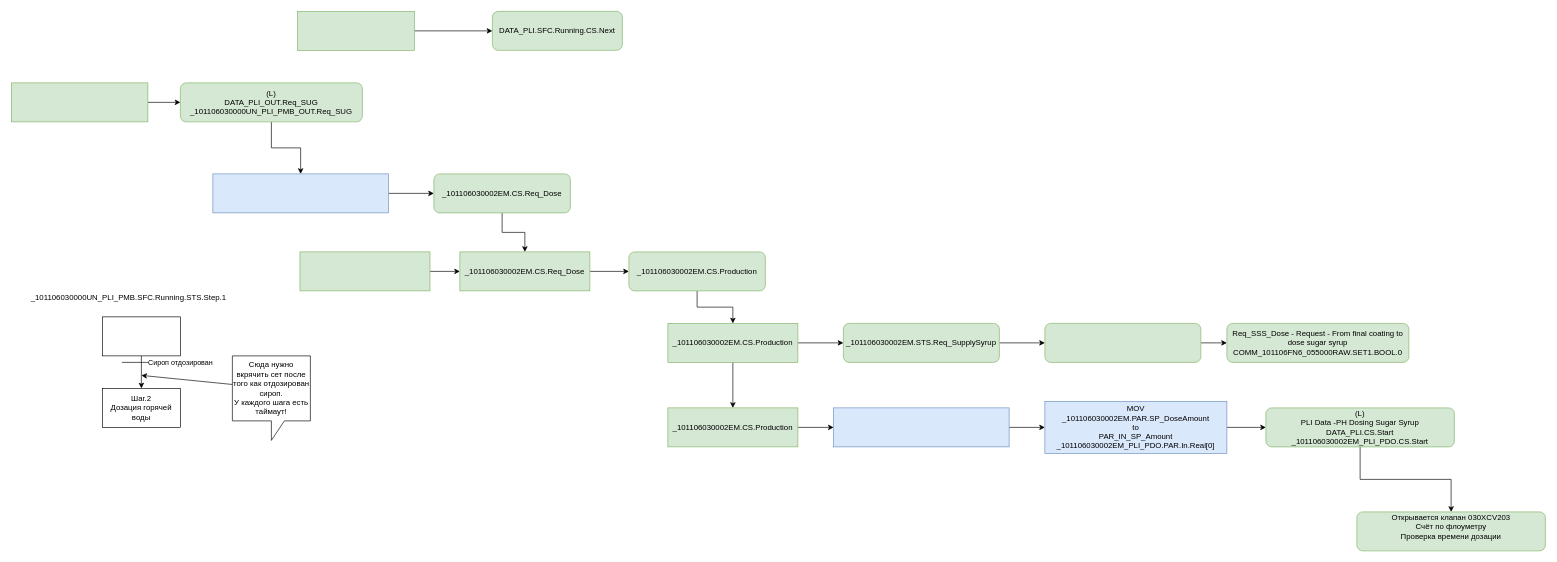
This 1557x562 diagram has some shape labels left out. The box of each missing label's shape, as (x1, y1, x2, y2) in pixels:
_101106030000UN.STS.Req_SupplySyrup: (1044, 323, 1201, 362)
_101106030002EM.CC.Done: (297, 11, 414, 50)
_101106030002EM.CC.Standby: (299, 251, 430, 291)
DATA_PLI.SFC.Running.STS.Step.1: (11, 82, 148, 122)
MOV 1 to _101106030002EM_PLI_PDO.PAR.In.DINT[0]: (833, 407, 1009, 447)
MOV DATA_PLI_PMB_OUT.SP_SUG_Amount to _101106030002EM.PAR.SP_DoseAmount: (212, 173, 388, 213)
Шаг.1 Дозация сиропа: (102, 316, 180, 356)
